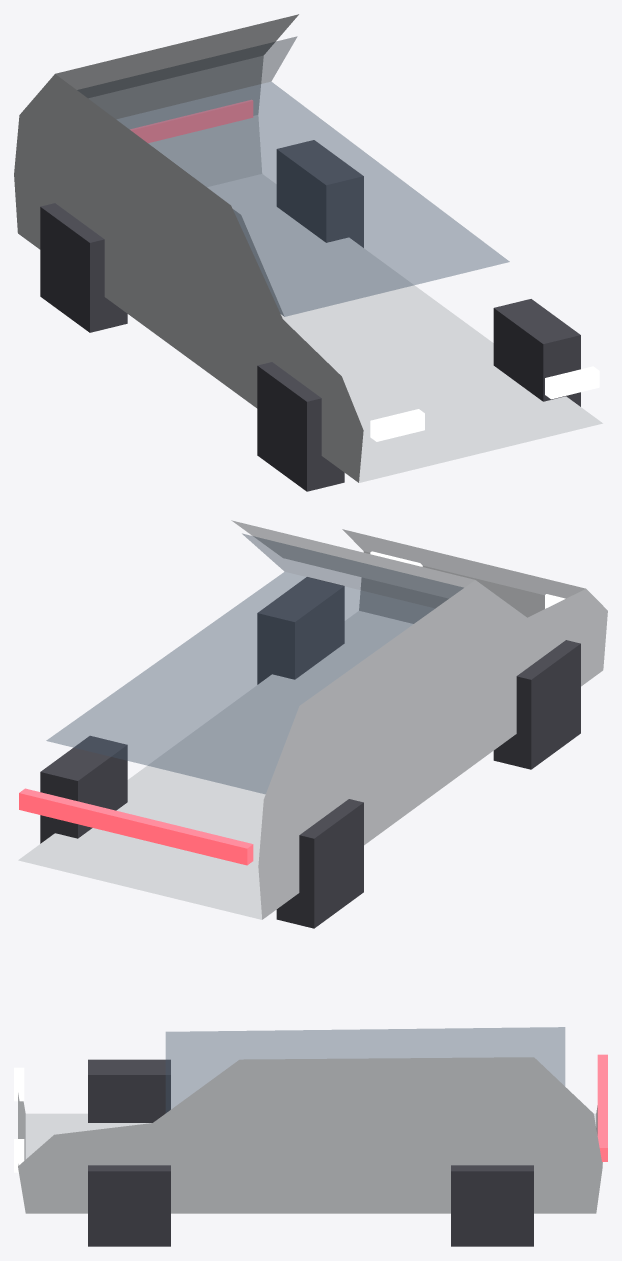
Rendered from avanza.glb.
3 renders of one model, top to bottom at view 1: azimuth 30°, elevation 25°; view 2: azimuth 150°, elevation 25°; view 3: azimuth 270°, elevation 25°, orthographic. The views are drawn at different scales.
Parts seen in each view (by area): view 1: mpv_body, cabin_glass, wheel_0, wheel_2, wheel_3, wheel_1, taillight, headlight_L, headlight_R; view 2: mpv_body, cabin_glass, wheel_2, wheel_0, wheel_1, wheel_3, taillight; view 3: mpv_body, cabin_glass, wheel_1, wheel_3, wheel_0, taillight.
Boxes of the visible parts, <box> form: mpv_body: <box>14,14,602,482</box>; cabin_glass: <box>77,36,509,316</box>; wheel_0: <box>257,362,344,491</box>; wheel_2: <box>40,203,127,332</box>; wheel_3: <box>276,140,363,247</box>; wheel_1: <box>493,299,580,406</box>; taillight: <box>130,99,253,142</box>; headlight_L: <box>370,409,424,441</box>; headlight_R: <box>545,366,599,399</box>; mpv_body: <box>18,520,607,919</box>; cabin_glass: <box>46,533,463,793</box>; wheel_2: <box>276,799,363,928</box>; wheel_0: <box>493,640,580,769</box>; wheel_1: <box>257,577,344,684</box>; wheel_3: <box>40,736,127,843</box>; taillight: <box>19,788,253,865</box>; mpv_body: <box>18,1057,602,1213</box>; cabin_glass: <box>166,1027,564,1112</box>; wheel_1: <box>88,1165,170,1246</box>; wheel_3: <box>451,1165,533,1246</box>; wheel_0: <box>88,1059,170,1122</box>; taillight: <box>597,1054,607,1161</box>.
Size of the model in its own units: 2.04 by 1.56 by 4.58.
